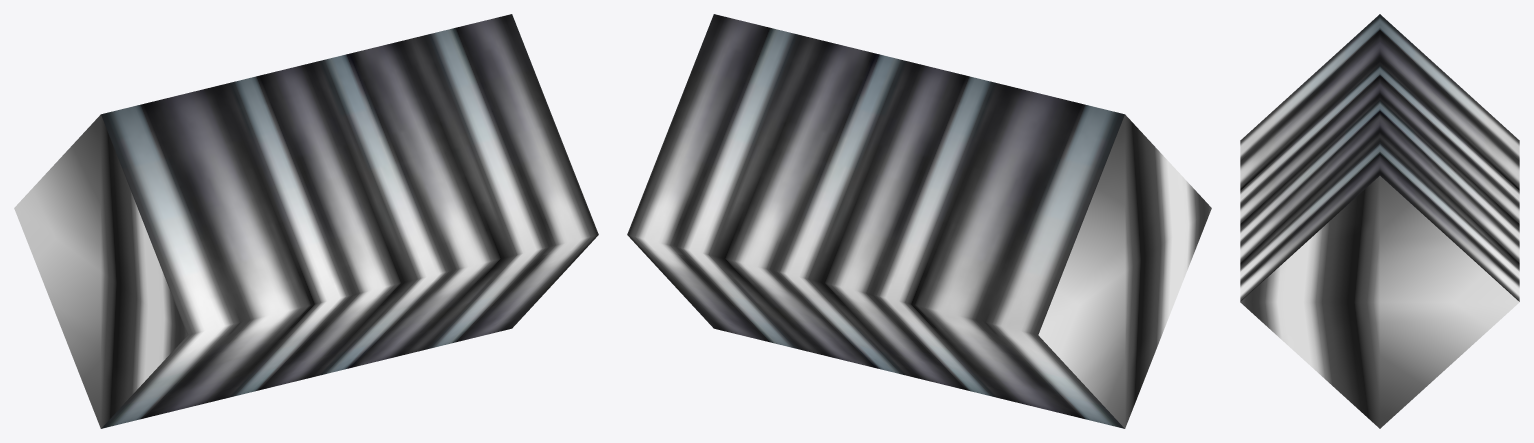
The model's file is springbase.glb.
The picture shows the model from 3 angles, left to right: view 1: azimuth 30°, elevation 25°; view 2: azimuth 150°, elevation 25°; view 3: azimuth 270°, elevation 25°; orthographic projection. The views are drawn at different scales.
Visible parts, largest first — view 1: springbase_m03d00020; view 2: springbase_m03d00020; view 3: springbase_m03d00020.
Boxes of the visible parts, x1,y1,x2,y2 form: springbase_m03d00020: [14, 14, 598, 428]; springbase_m03d00020: [627, 14, 1211, 428]; springbase_m03d00020: [1240, 14, 1519, 428].
Bounding box in the file's own units: 21.88 × 16 × 16.
1 material, 1 textured.
